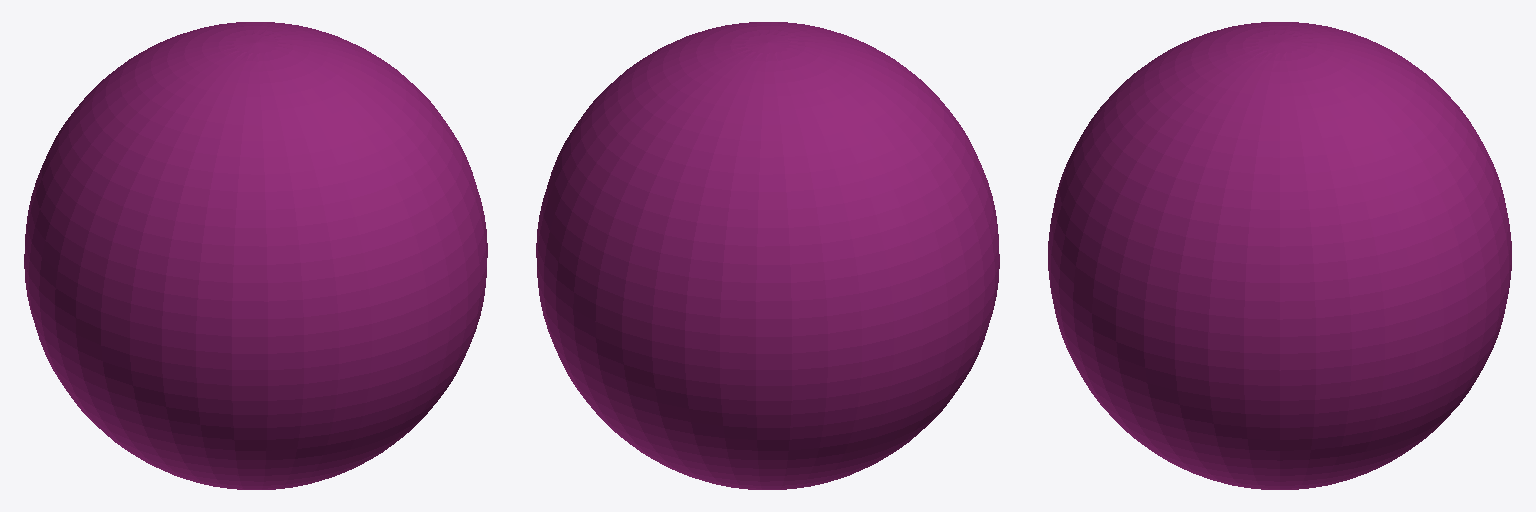
File: earth.obj
3 views of the same model, side by side, from view 1: azimuth 30°, elevation 25°; view 2: azimuth 150°, elevation 25°; view 3: azimuth 270°, elevation 25° (orthographic).
Parts seen in each view (by area): view 1: pSphere002; view 2: pSphere002; view 3: pSphere002.
Boxes of the visible parts, box(x1,y1,x2,y2) form: pSphere002: box(24, 22, 487, 489); pSphere002: box(536, 22, 999, 489); pSphere002: box(1048, 22, 1511, 489).
Size of the model in its own units: 303 by 307 by 303.